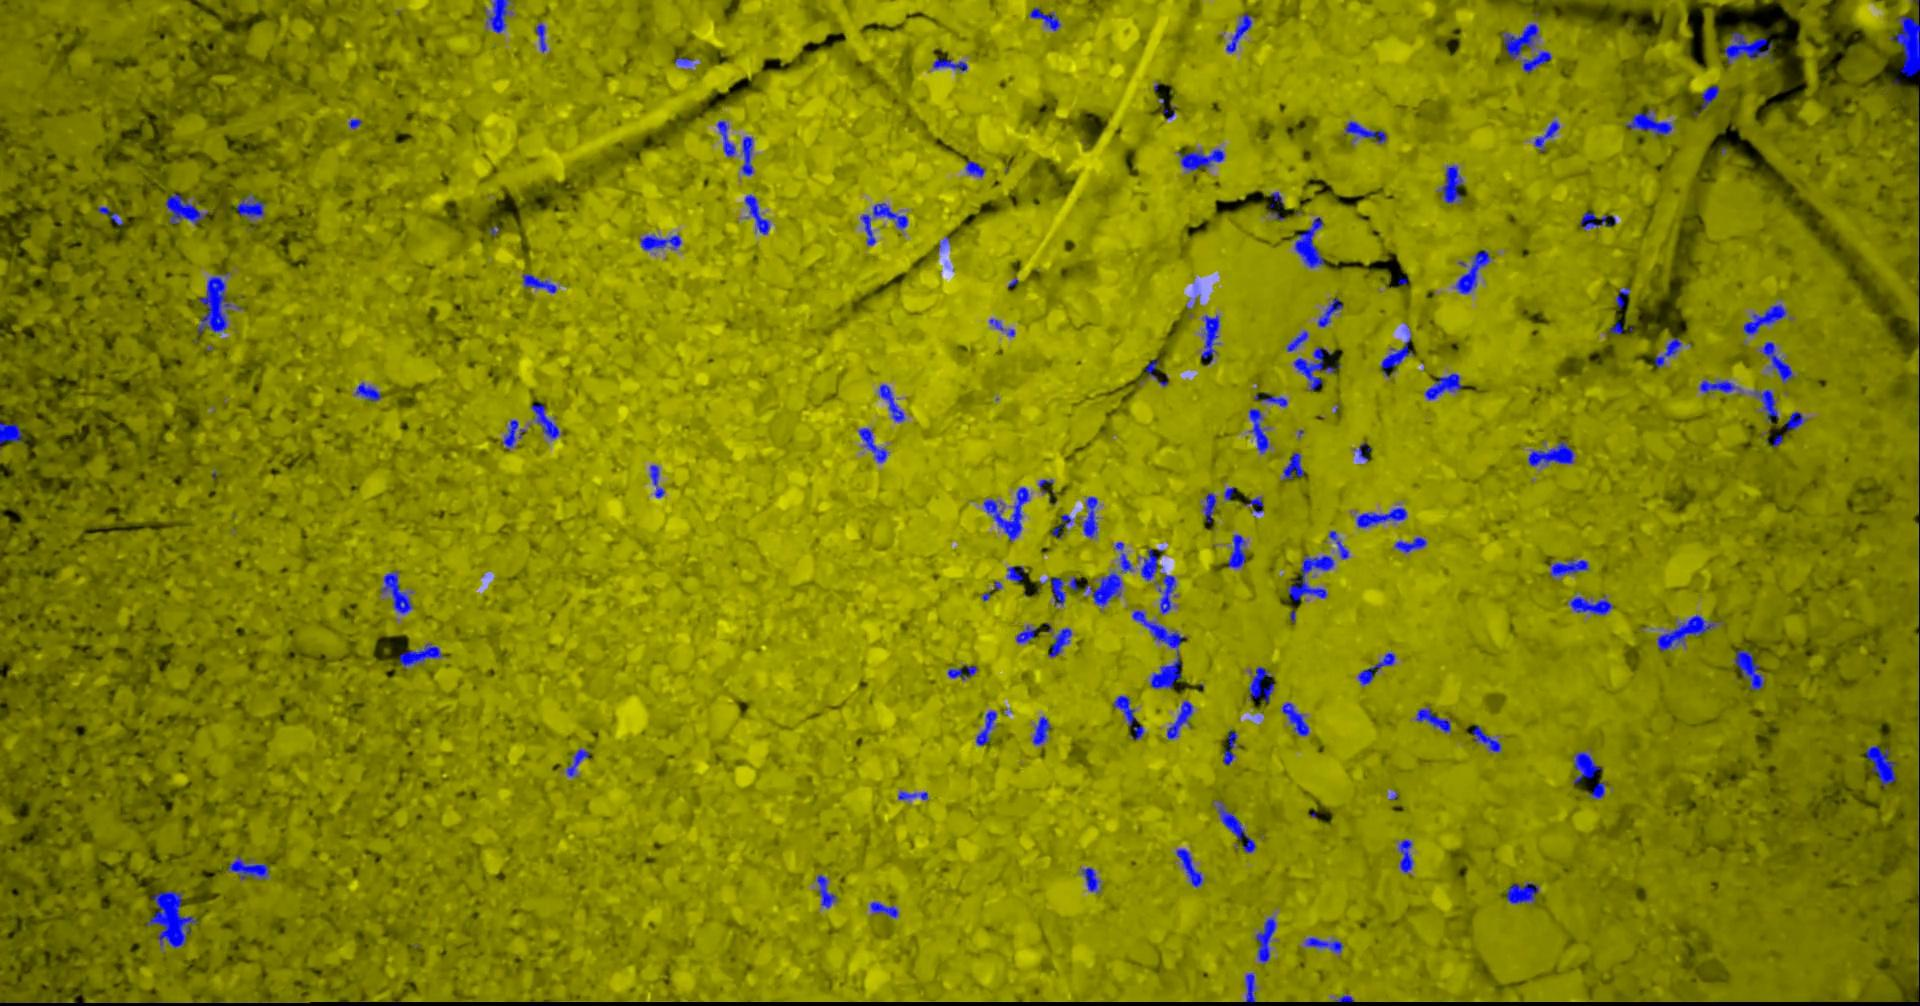ant: (985, 486, 1031, 541), (1658, 614, 1722, 652), (1891, 0, 1920, 77), (1289, 554, 1336, 601), (1218, 800, 1258, 852), (1295, 345, 1342, 390), (862, 202, 909, 245), (1724, 30, 1774, 64), (1295, 216, 1326, 268), (1457, 249, 1492, 293), (1761, 340, 1796, 384), (1743, 304, 1788, 335), (166, 193, 210, 225), (382, 570, 414, 614), (1867, 744, 1898, 788), (1503, 23, 1542, 58), (1382, 337, 1415, 376), (1086, 572, 1123, 606), (1359, 652, 1397, 685), (1529, 439, 1575, 466), (1735, 649, 1765, 688), (1627, 109, 1674, 135), (858, 427, 890, 462), (1227, 11, 1253, 52), (1178, 149, 1225, 171), (1177, 848, 1205, 887), (532, 403, 561, 438), (1357, 507, 1408, 527), (1437, 165, 1464, 203), (1346, 119, 1388, 144), (229, 855, 270, 879), (745, 194, 771, 234), (1168, 700, 1194, 739), (400, 643, 443, 666), (1250, 666, 1276, 702), (1203, 314, 1222, 365), (1426, 373, 1464, 399), (1257, 916, 1277, 963), (880, 384, 905, 420), (1250, 408, 1270, 453), (1575, 751, 1604, 782), (1283, 702, 1310, 735), (1417, 705, 1451, 732), (1655, 337, 1683, 367), (1571, 594, 1614, 614), (1473, 725, 1503, 752), (1535, 119, 1561, 151), (1755, 389, 1780, 420), (1114, 695, 1139, 727), (237, 193, 267, 220), (977, 710, 998, 746), (1142, 547, 1164, 580), (1159, 572, 1177, 614), (503, 419, 528, 448), (488, 0, 510, 32), (1082, 495, 1098, 539), (1, 420, 28, 447), (1319, 297, 1343, 326), (717, 119, 737, 156), (1550, 559, 1590, 577), (1031, 8, 1062, 30), (1523, 50, 1553, 72), (1509, 882, 1540, 903), (641, 234, 682, 250), (818, 874, 838, 907), (1050, 627, 1073, 657), (1305, 936, 1345, 953), (1702, 379, 1743, 394), (568, 748, 590, 776), (1581, 211, 1617, 229), (524, 273, 557, 292), (1330, 530, 1350, 559), (1229, 533, 1247, 567), (1284, 452, 1305, 479), (1053, 513, 1074, 539), (1396, 536, 1429, 553), (356, 382, 383, 401), (1116, 541, 1133, 572), (1399, 840, 1415, 873), (743, 136, 756, 175), (1034, 716, 1051, 744), (1083, 868, 1103, 892), (99, 206, 124, 225), (871, 901, 900, 917), (935, 57, 969, 71), (1224, 729, 1238, 763), (949, 664, 979, 680), (651, 464, 665, 497), (1702, 85, 1719, 111), (1271, 191, 1286, 220), (1288, 330, 1309, 351), (1785, 412, 1808, 431), (1204, 492, 1218, 522), (1051, 577, 1067, 605), (1017, 624, 1039, 643), (1262, 392, 1289, 406), (536, 23, 549, 52), (1247, 495, 1265, 516), (1246, 972, 1257, 1002), (968, 160, 985, 177), (1591, 781, 1608, 799), (1145, 359, 1161, 379), (1617, 287, 1630, 307), (1008, 565, 1025, 582), (899, 791, 930, 800), (1610, 320, 1624, 334), (1131, 725, 1145, 739), (1336, 995, 1356, 1002), (676, 57, 695, 65), (1225, 486, 1236, 500)
